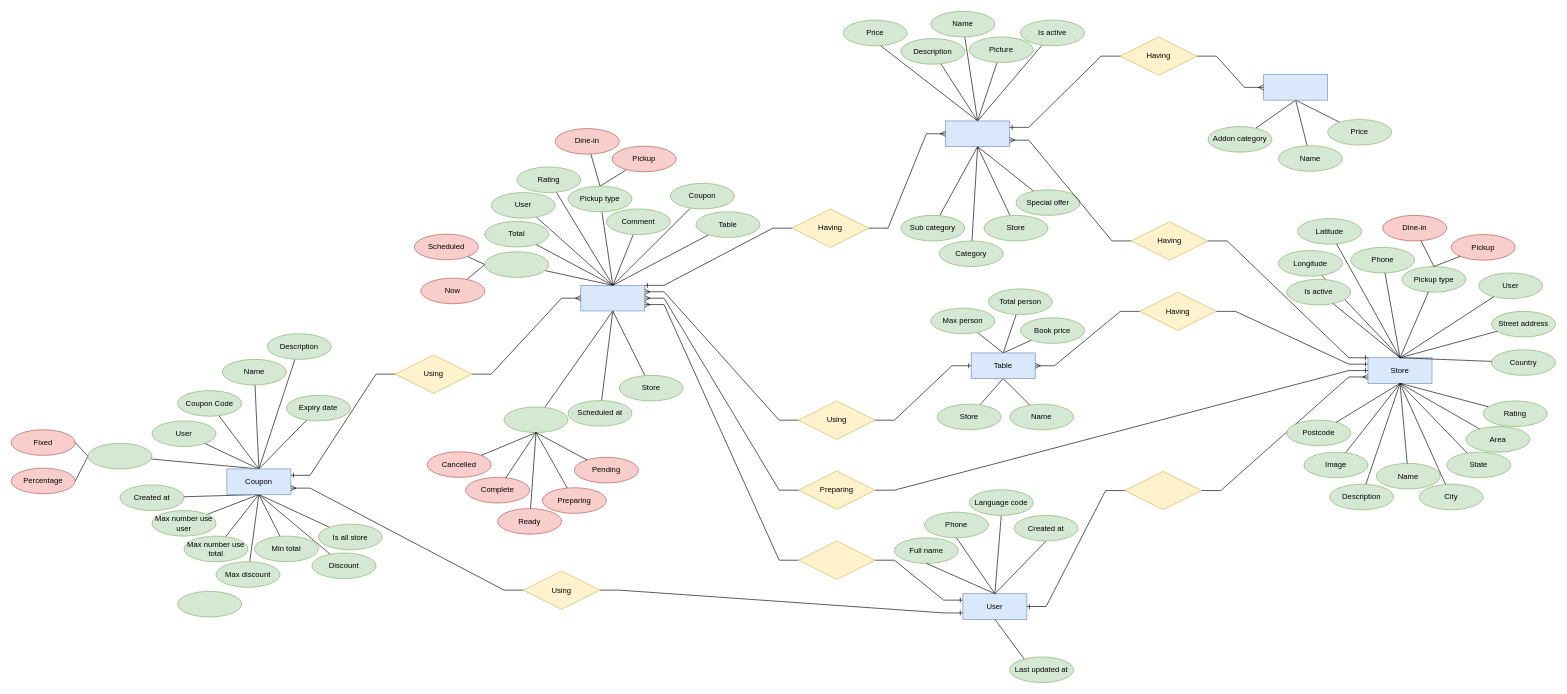
The diagram is 1567 pixels wide and 694 high, and some of its shapes have lost their labels. Each missing label, with the centre of its shape:
"Create" goes at (836,559).
"Discount type" goes at (119,456).
"Going to" goes at (1163,490).
"Is valid" goes at (209,604).
"Item Addon" goes at (1295,87).
"Items" goes at (977,133).
"Order" goes at (612,298).
"Order type" goes at (516,264).
"Status" goes at (535,419).
